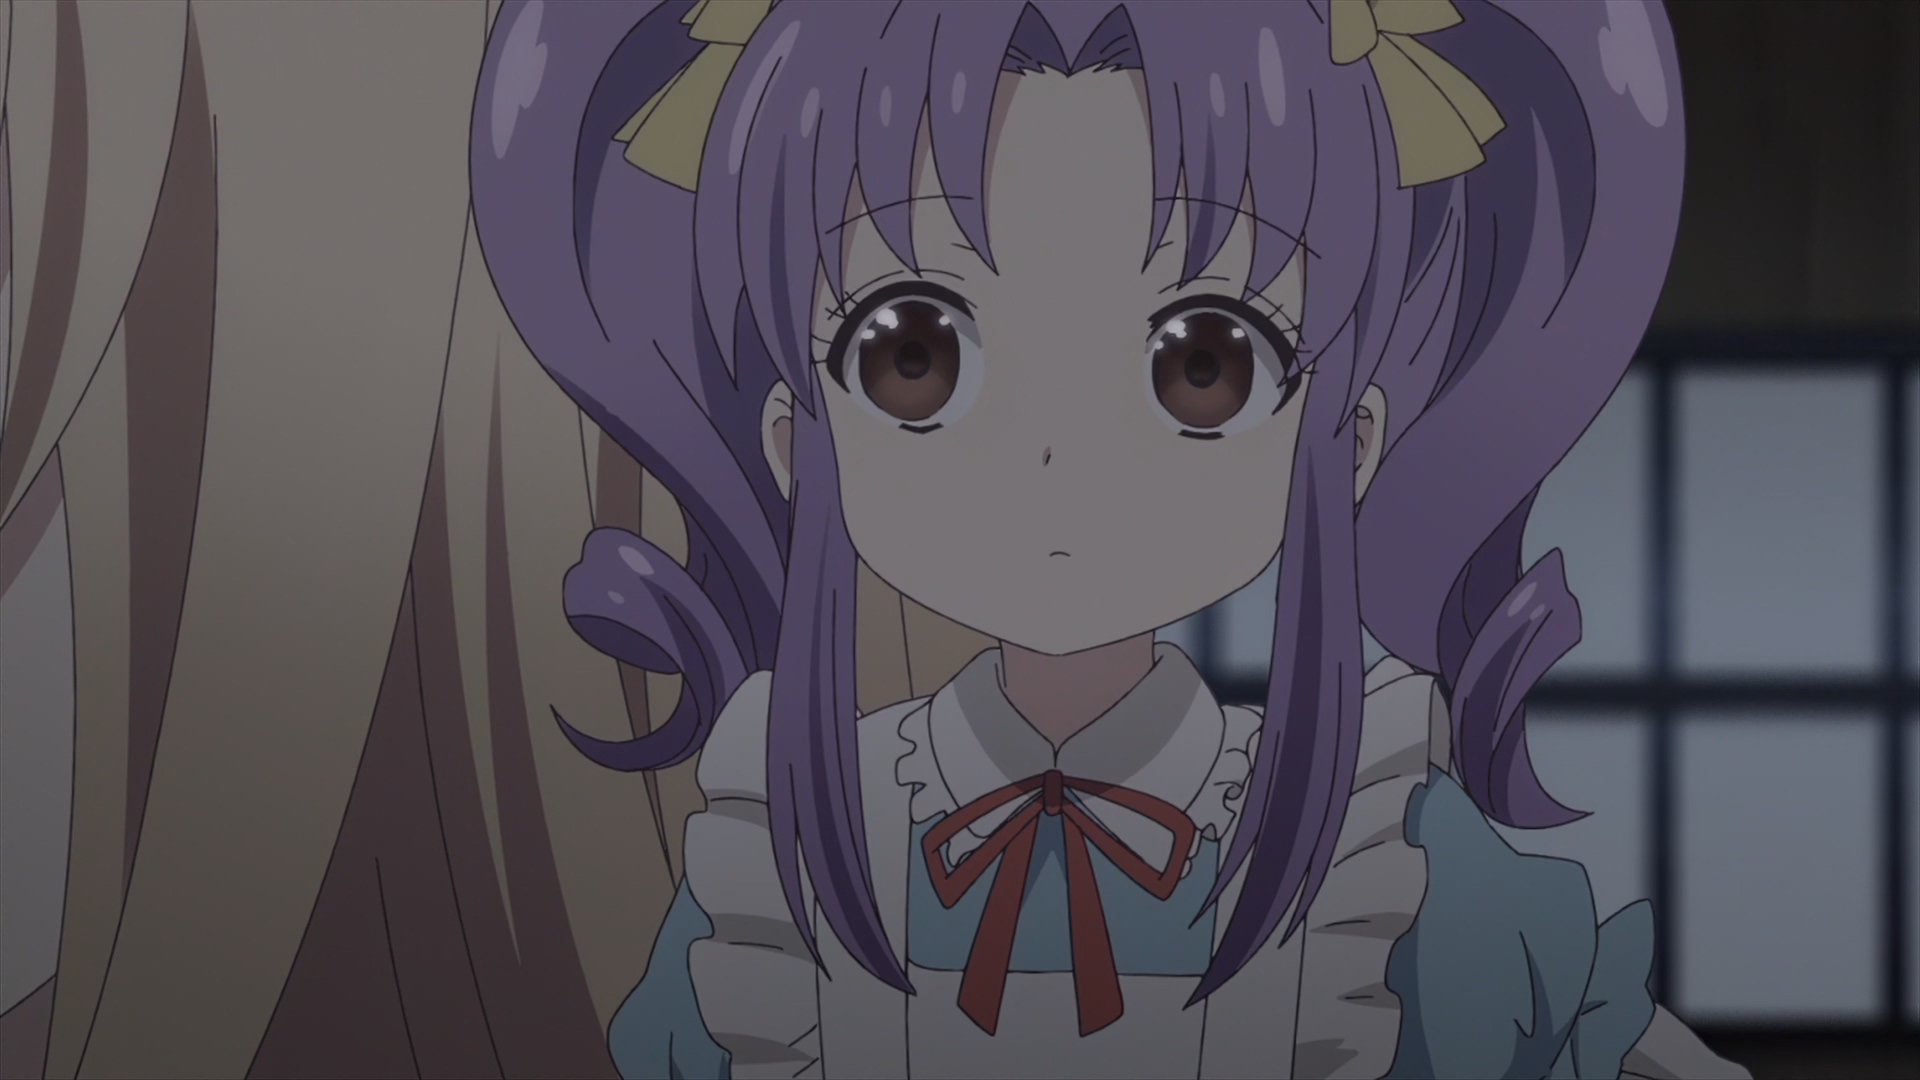阿菊: (465, 1, 1754, 1080)
